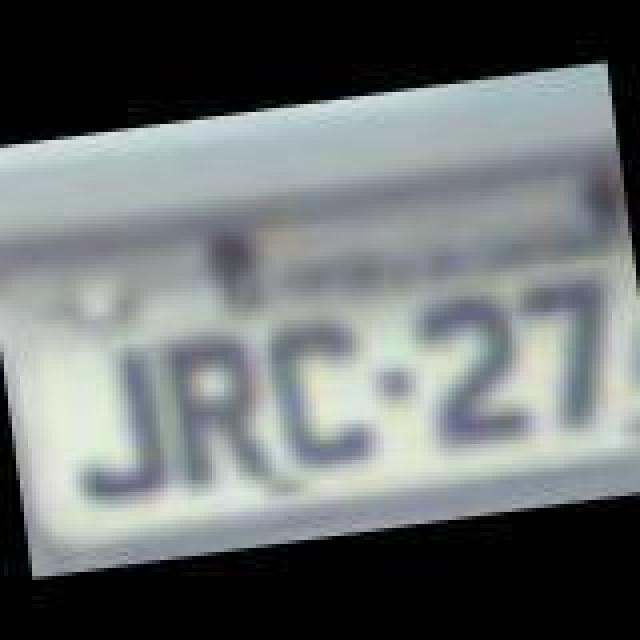2: (410, 290, 534, 454)
7: (508, 272, 628, 440)
C: (260, 314, 380, 470)
J: (52, 342, 172, 506)
R: (166, 328, 274, 496)
